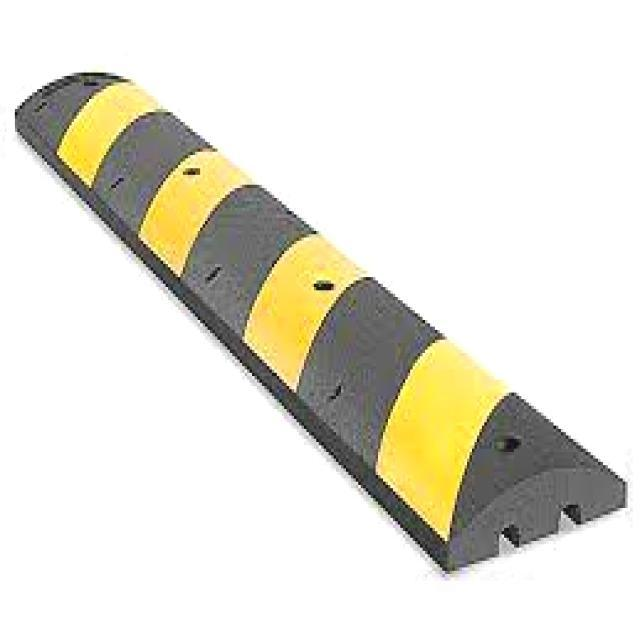speed-bump: (6, 36, 625, 570)
